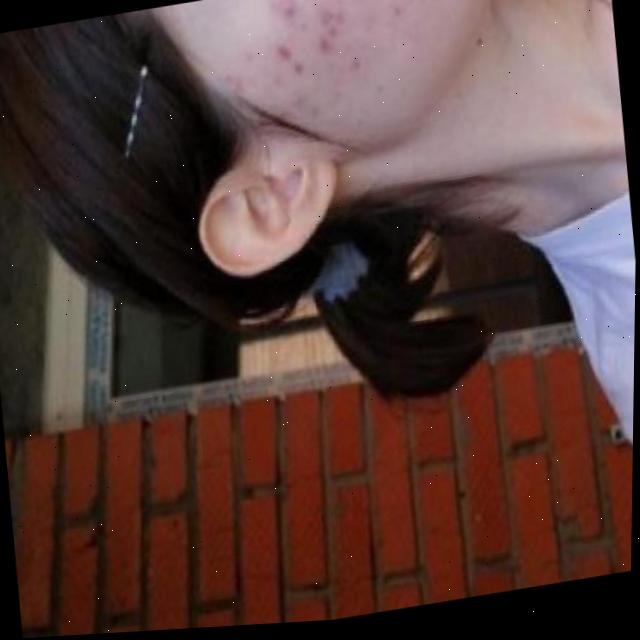Acne: (244, 0, 421, 130)
